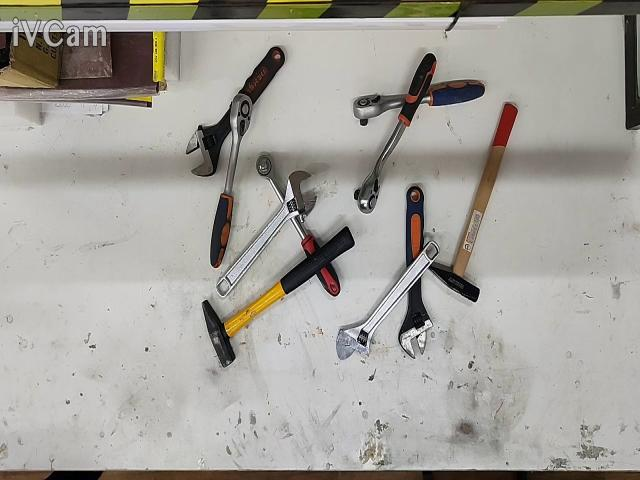Adjustable spanner: (187, 46, 286, 177), (216, 170, 315, 298), (336, 242, 439, 360), (399, 184, 432, 358)
Hammer: (201, 227, 354, 367), (428, 103, 518, 302)
Ratchet: (355, 53, 436, 213), (255, 154, 342, 298), (210, 93, 252, 268), (354, 80, 485, 125)
